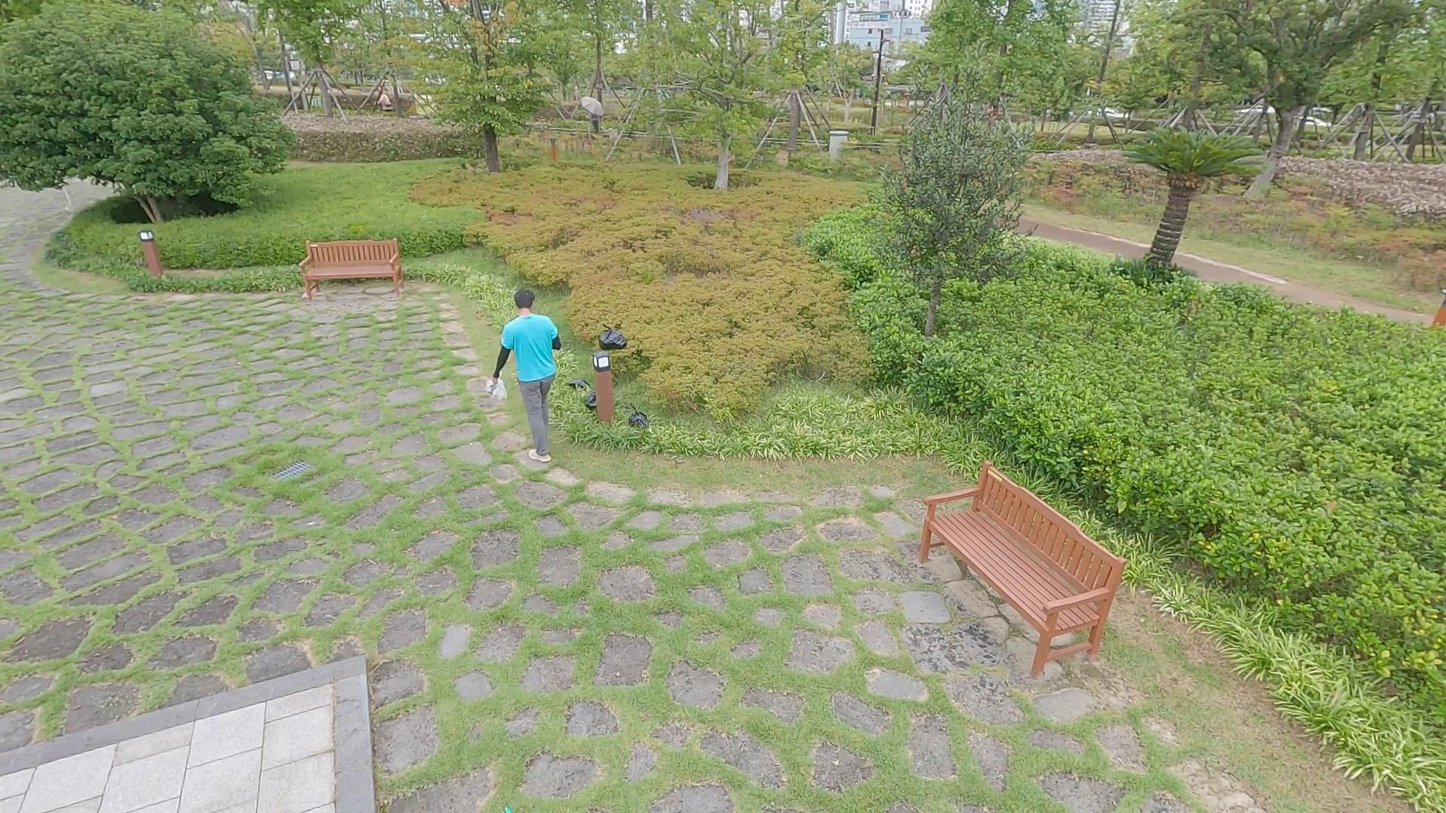person: (492, 290, 562, 463)
trash: (598, 323, 627, 348), (486, 378, 508, 404), (628, 404, 648, 429), (585, 390, 600, 411), (568, 378, 589, 391)
